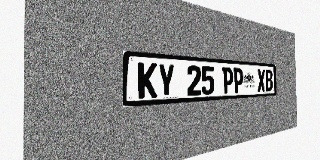2: (187, 65, 201, 96)
5: (201, 66, 214, 95)
B: (265, 70, 273, 91)
K: (138, 62, 157, 99)
P: (222, 67, 233, 94), (233, 68, 243, 93)
X: (257, 69, 265, 92)
Y: (158, 63, 175, 97)
